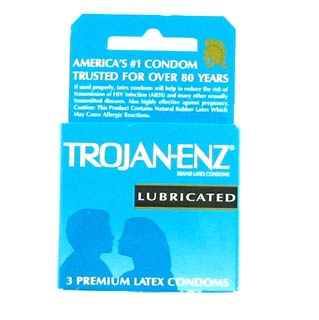grozi_102: (57, 14, 239, 292)
